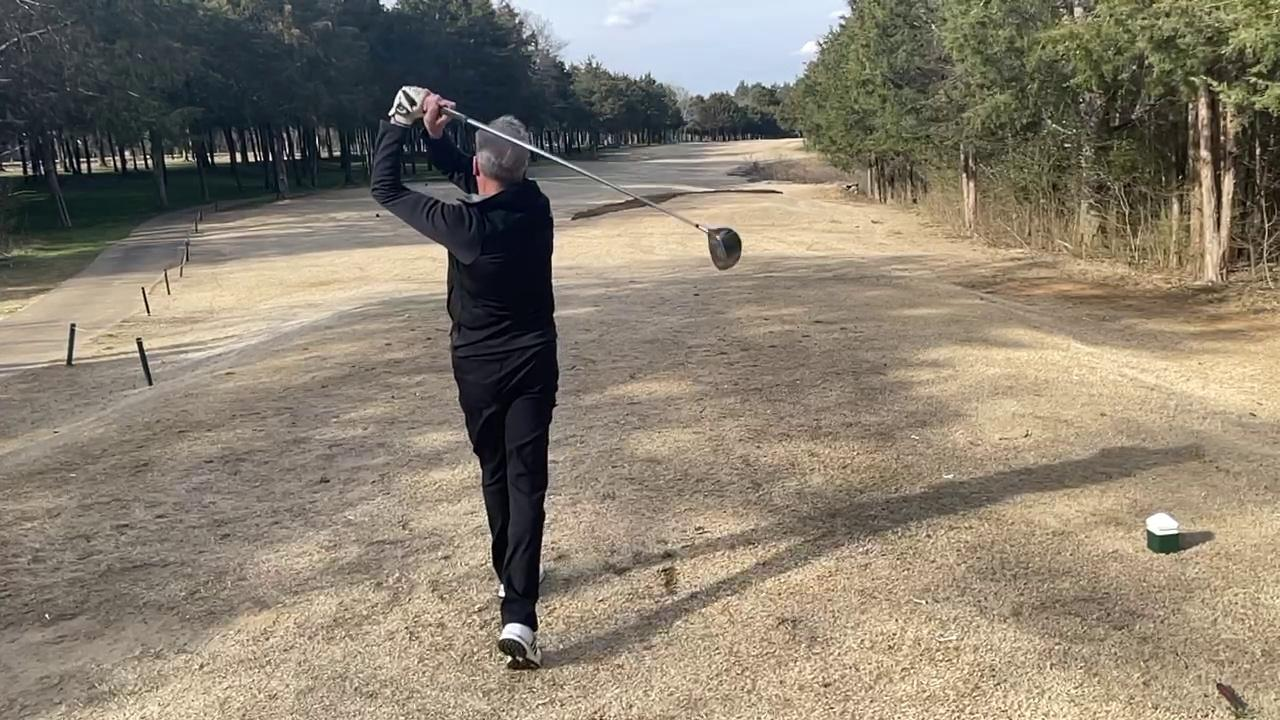ClubHead: (693, 223, 744, 273)
